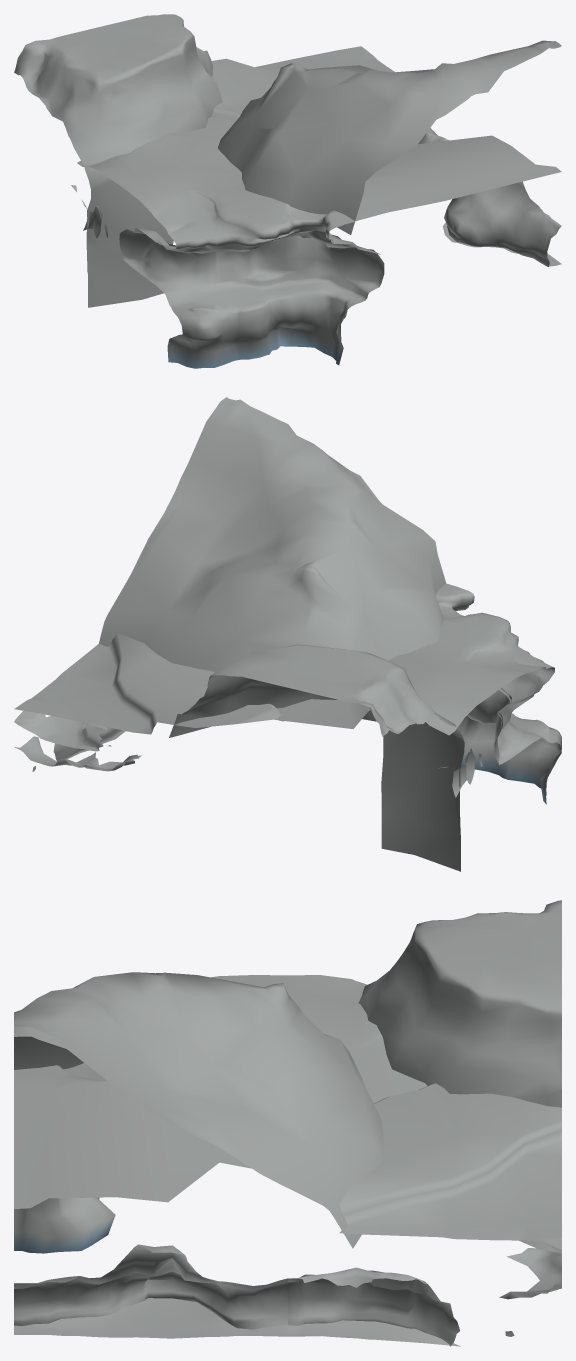
3 renders of one model, top to bottom at view 1: azimuth 30°, elevation 25°; view 2: azimuth 150°, elevation 25°; view 3: azimuth 270°, elevation 25°, orthographic. The views are drawn at different scales.
Parts seen in each view (by area): view 1: G:\FFXIV-MapTools\exports\w1f1\bg\ffxiv\wil_w1\fld\w1f1\bgpl (×6); view 2: G:\FFXIV-MapTools\exports\w1f1\bg\ffxiv\wil_w1\fld\w1f1\bgpl (×6); view 3: G:\FFXIV-MapTools\exports\w1f1\bg\ffxiv\wil_w1\fld\w1f1\bgpl (×12).
Part boxes in pixels (bbox=[...]): G:\FFXIV-MapTools\exports\w1f1\bg\ffxiv\wil_w1\fld\w1f1\bgpl (×6): bbox=[14, 14, 561, 368]; G:\FFXIV-MapTools\exports\w1f1\bg\ffxiv\wil_w1\fld\w1f1\bgpl (×6): bbox=[14, 397, 561, 871]; G:\FFXIV-MapTools\exports\w1f1\bg\ffxiv\wil_w1\fld\w1f1\bgpl (×12): bbox=[14, 900, 561, 1346].
Bounding box in the file's own units: 128 × 95.85 × 128.
